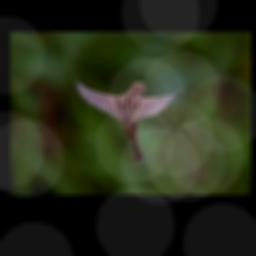Sparrow: (72, 76, 184, 164)
